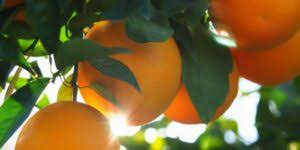orange: (72, 18, 183, 127), (150, 43, 241, 123), (14, 97, 120, 150), (205, 1, 300, 48)
